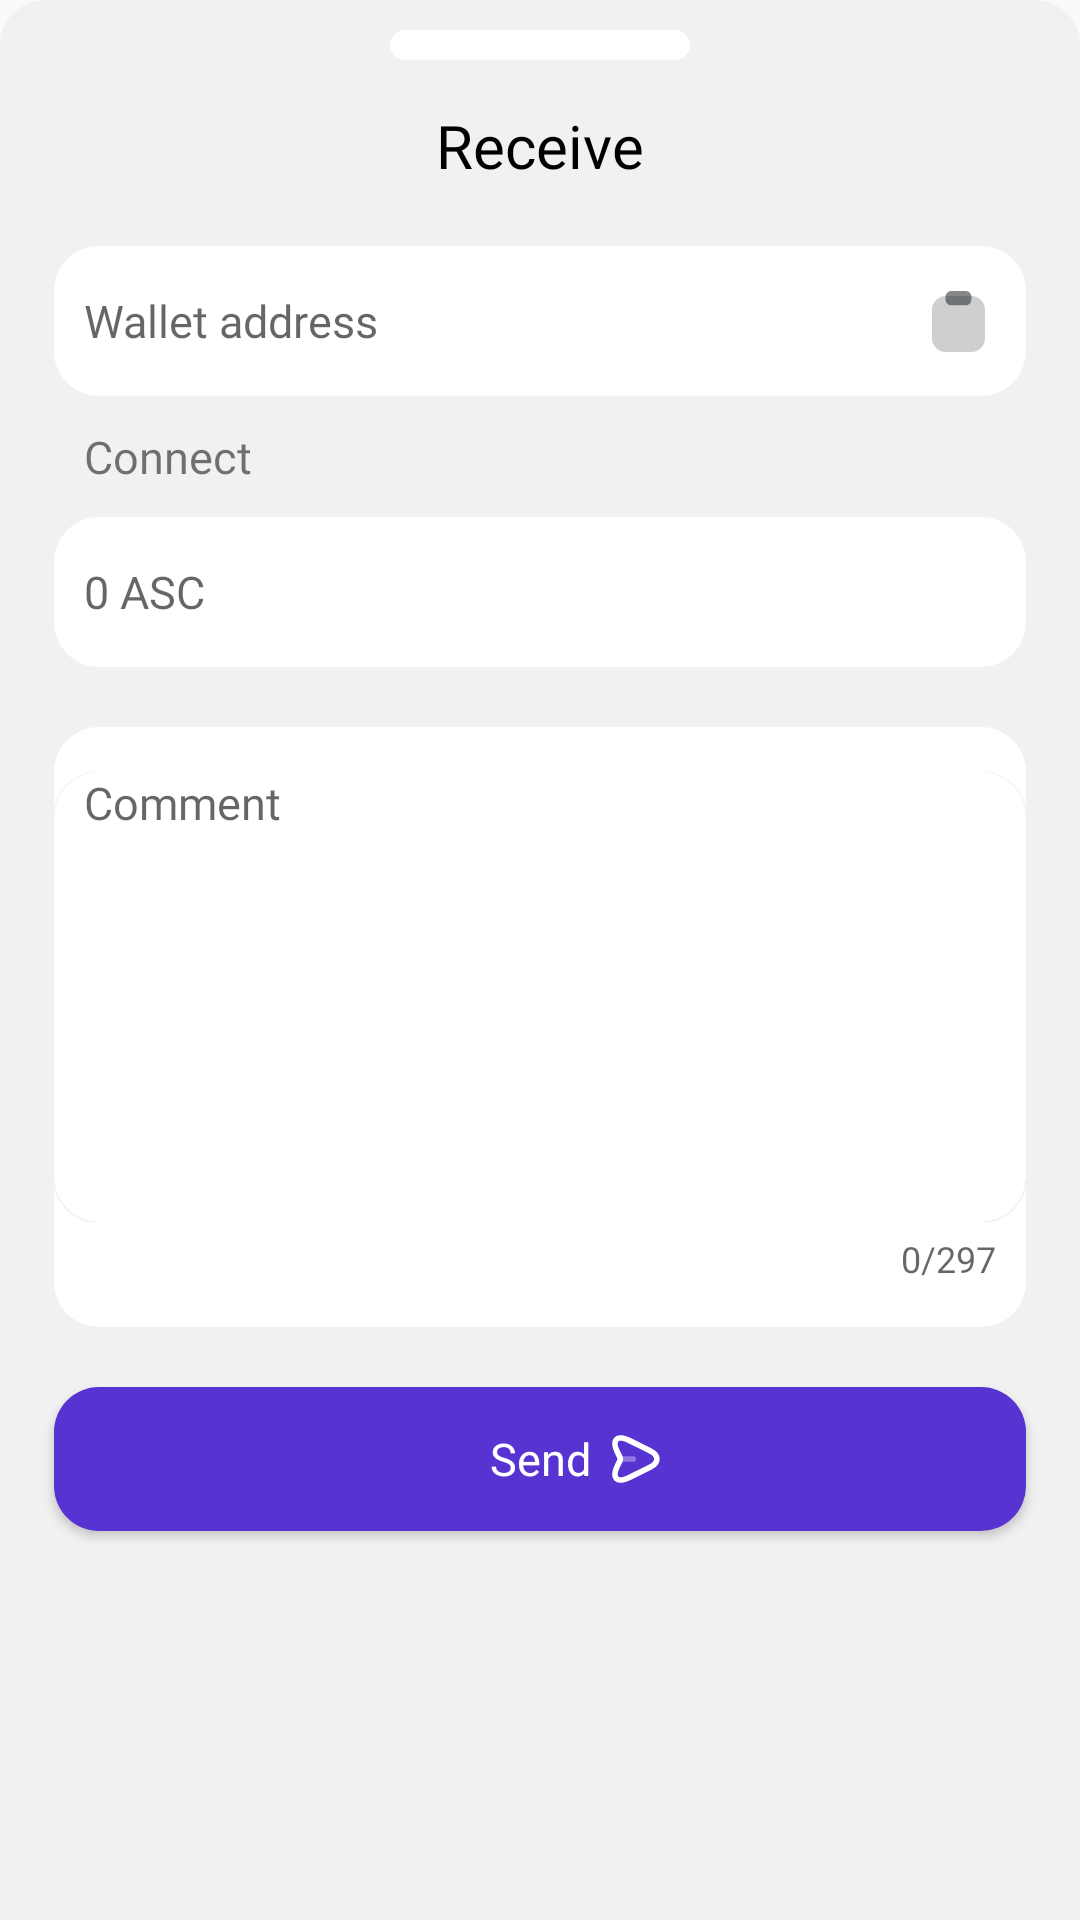

Icon click points for this 1080 x 1920 phone screenshot, format (x=x, y=y):
pasteicons: (x=958, y=321)
